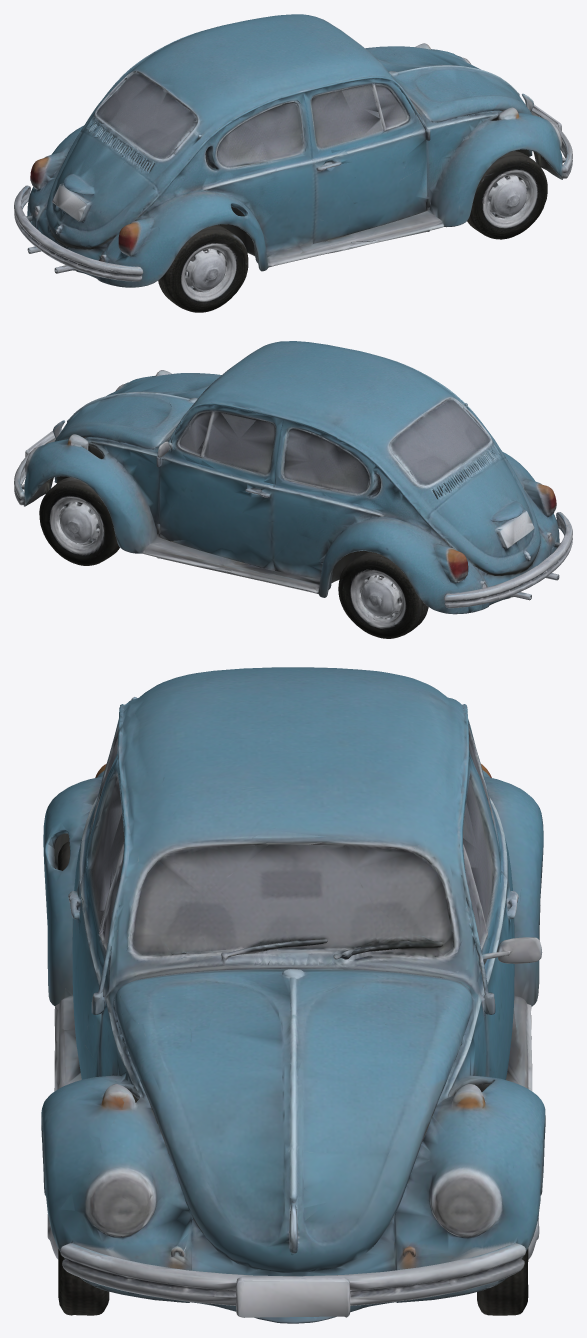
The model's file is besouro__01a16954.glb.
3 views of the same model, one above another, from view 1: azimuth 30°, elevation 25°; view 2: azimuth 150°, elevation 25°; view 3: azimuth 270°, elevation 25° (orthographic). The views are drawn at different scales.
Parts seen in each view (by area): view 1: besouro__01a16954; view 2: besouro__01a16954; view 3: besouro__01a16954.
Boxes of the visible parts, x1,y1,x2,y2 form: besouro__01a16954: (14,14,572,312); besouro__01a16954: (14,341,572,638); besouro__01a16954: (41,667,545,1323).
Bounding box in the file's own units: 4.08 × 1.53 × 1.75.
1 material, 1 textured.
